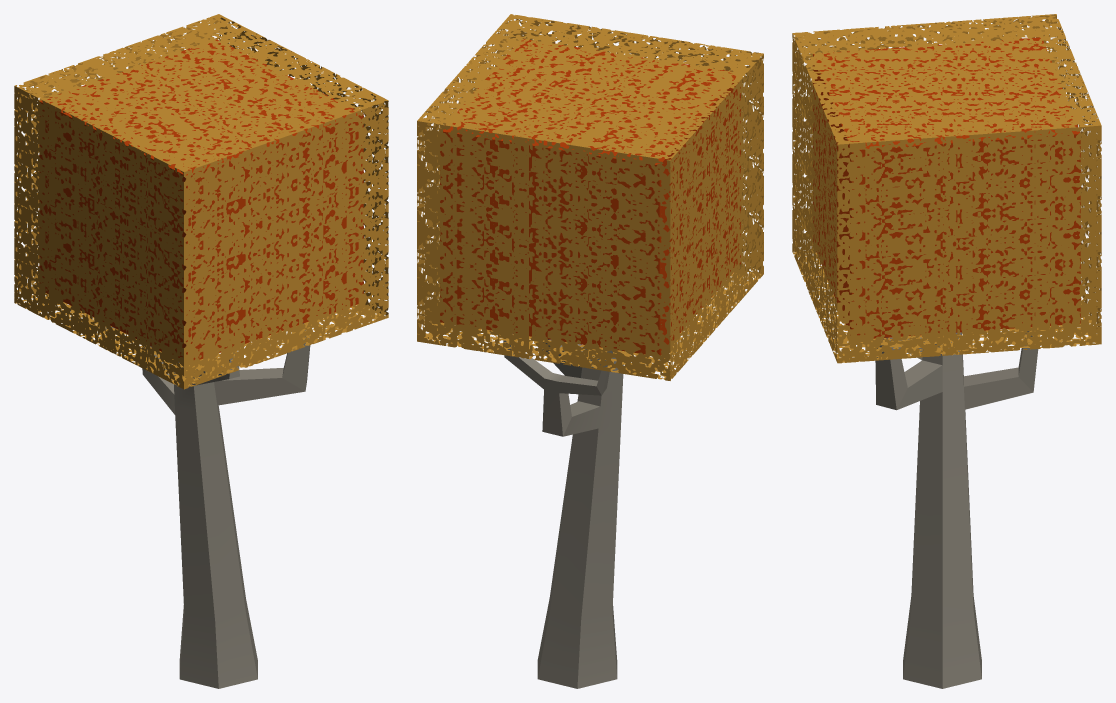
The model's file is tree_03.fbx.
3 views of the same model, side by side, from view 1: azimuth 30°, elevation 25°; view 2: azimuth 150°, elevation 25°; view 3: azimuth 270°, elevation 25° (orthographic).
Visible parts, largest first — view 1: tree_03; view 2: tree_03; view 3: tree_03.
Part boxes in pixels (x1,y1,x2,y2): tree_03: (14,14,388,688); tree_03: (417,14,763,688); tree_03: (792,14,1101,688).
Bounding box in the file's own units: 100 × 209 × 100.
